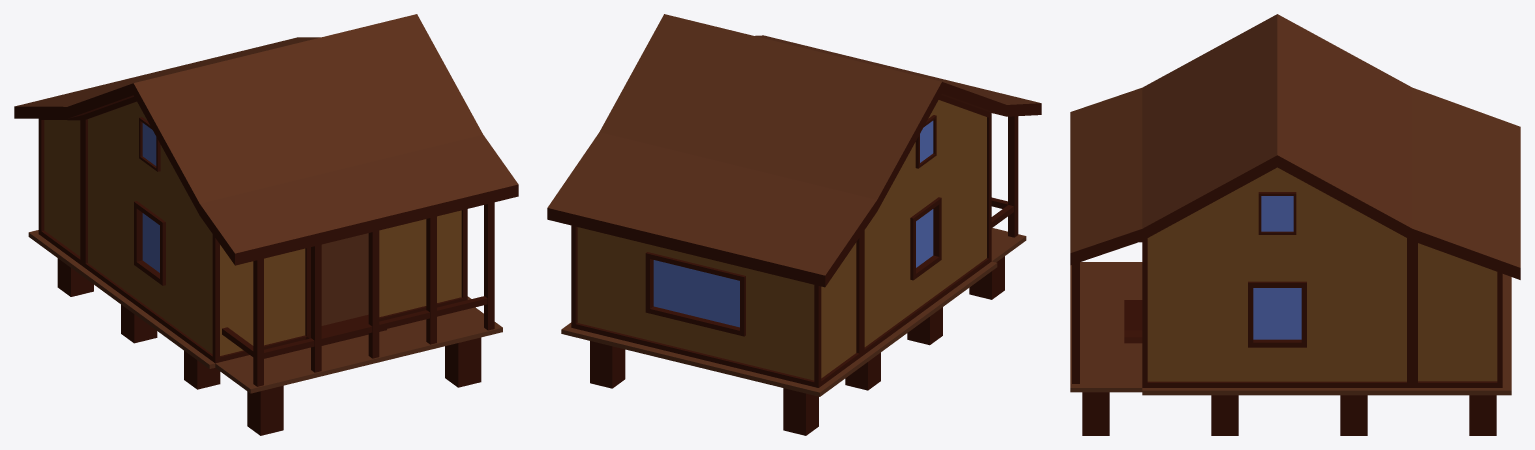
File: Casa3.fbx
3 views of the same model, side by side, from view 1: azimuth 30°, elevation 25°; view 2: azimuth 150°, elevation 25°; view 3: azimuth 270°, elevation 25° (orthographic). The views are drawn at different scales.
Visible parts, largest first — view 1: Casa3; view 2: Casa3; view 3: Casa3.
Boxes of the visible parts, left/top/right/bottom form: Casa3: left=14, top=14, right=518, bottom=435; Casa3: left=547, top=14, right=1041, bottom=435; Casa3: left=1070, top=14, right=1520, bottom=435.
Size of the model in its own units: 926 by 906 by 1248.
